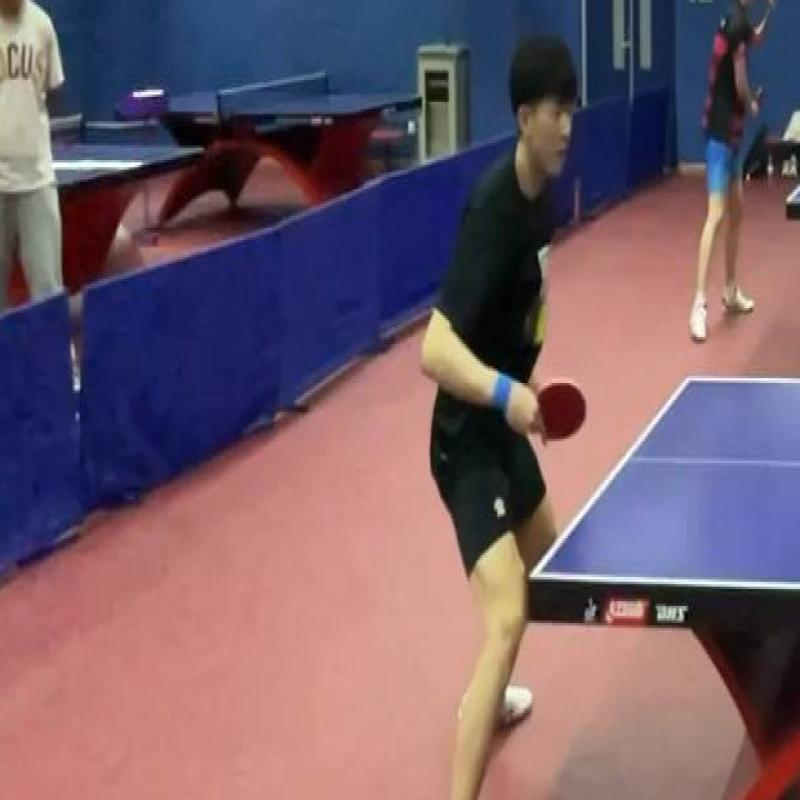bats: (517, 361, 600, 451)
